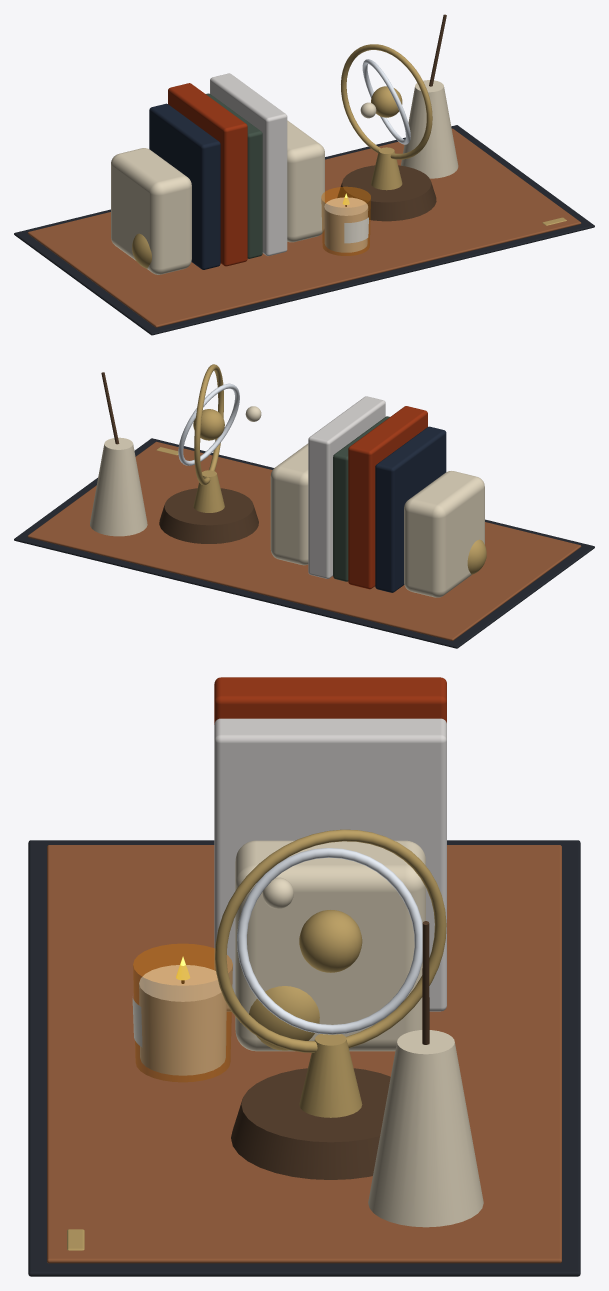
The model's file is atelier-decor-curiosities-heritage.glb.
The picture shows the model from 3 angles, top to bottom: view 1: azimuth 30°, elevation 25°; view 2: azimuth 150°, elevation 25°; view 3: azimuth 270°, elevation 25°; orthographic projection. The views are drawn at different scales.
Size of the model in its own units: 0.78 by 0.2655 by 0.4201.
